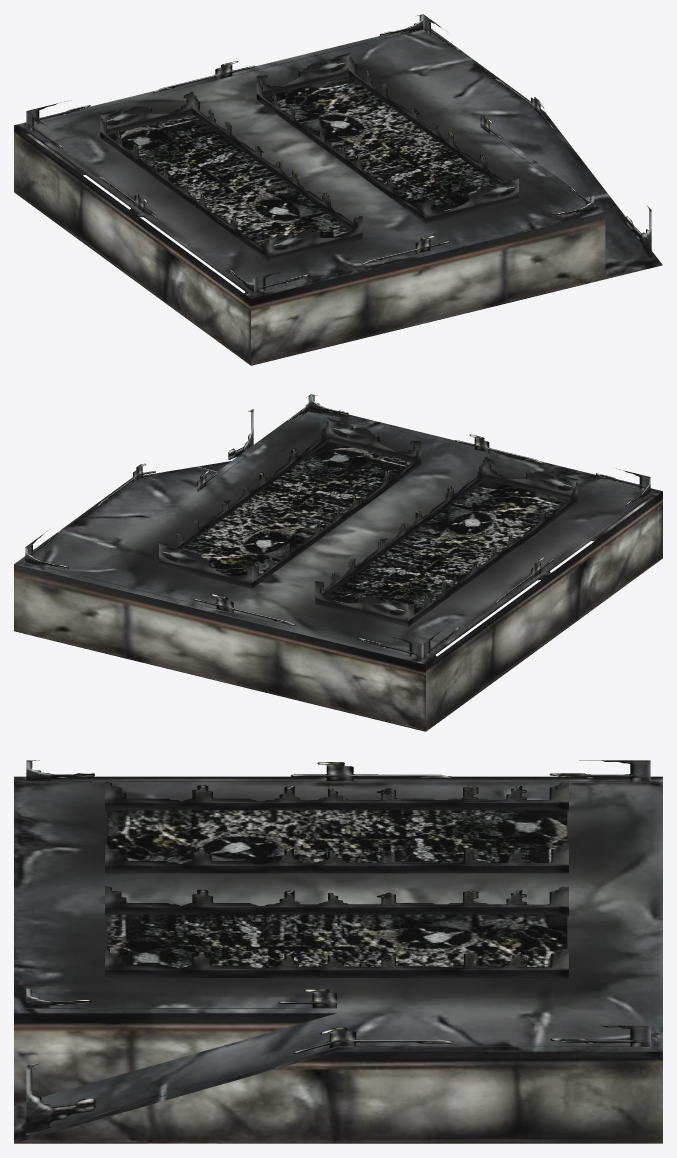
File: transformerstation_dam_hdtex.glb
The picture shows the model from 3 angles, top to bottom: view 1: azimuth 30°, elevation 25°; view 2: azimuth 150°, elevation 25°; view 3: azimuth 270°, elevation 25°; orthographic projection. The views are drawn at different scales.
Visible parts, largest first — view 1: TransformerStation; view 2: TransformerStation; view 3: TransformerStation.
Part boxes in pixels (left/top/right/bottom): TransformerStation: left=14, top=14, right=662, bottom=365; TransformerStation: left=14, top=394, right=662, bottom=731; TransformerStation: left=14, top=760, right=662, bottom=1143.
Size of the model in its own units: 16.62 by 3.56 by 16.56.
Materials: 1 (1 with a texture image).
